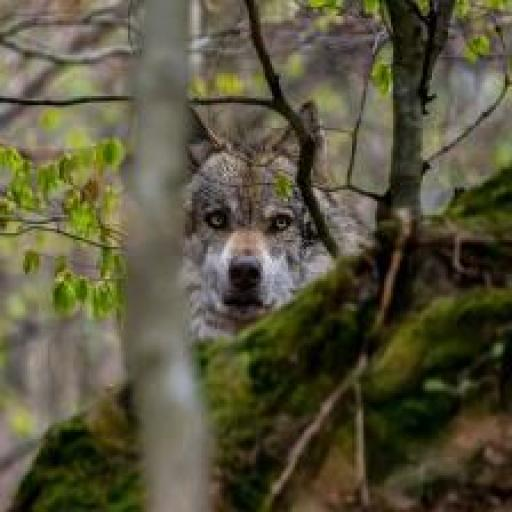wolf: (172, 96, 372, 349)
